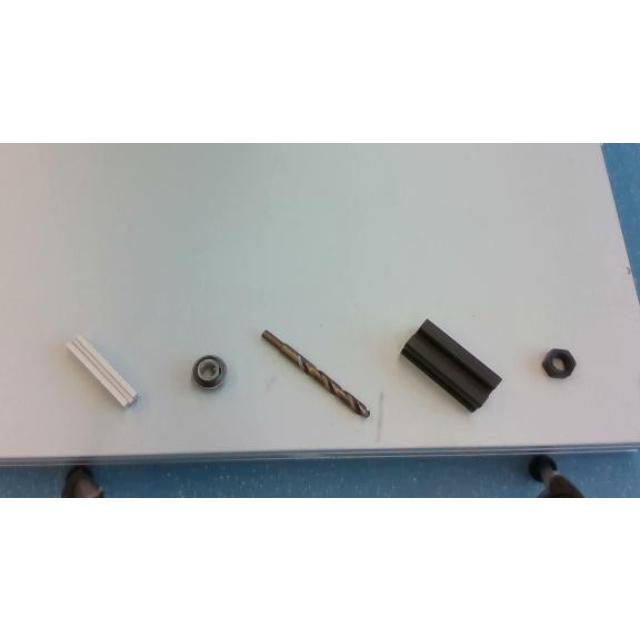Bearing2: (192, 354, 225, 388)
Drill: (262, 329, 371, 417)
F20_20_G: (66, 333, 138, 405)
M20: (542, 348, 574, 378)
S40_40_B: (401, 318, 501, 409)
